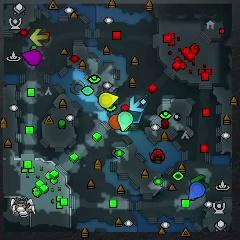p1: (189, 182, 205, 199)
p2: (118, 111, 133, 131)
p3: (22, 49, 42, 66)
p4: (98, 93, 119, 108)
p5: (109, 114, 122, 130)
x2: (29, 28, 48, 46)
x3: (130, 96, 145, 112)
x4: (191, 174, 208, 188)
